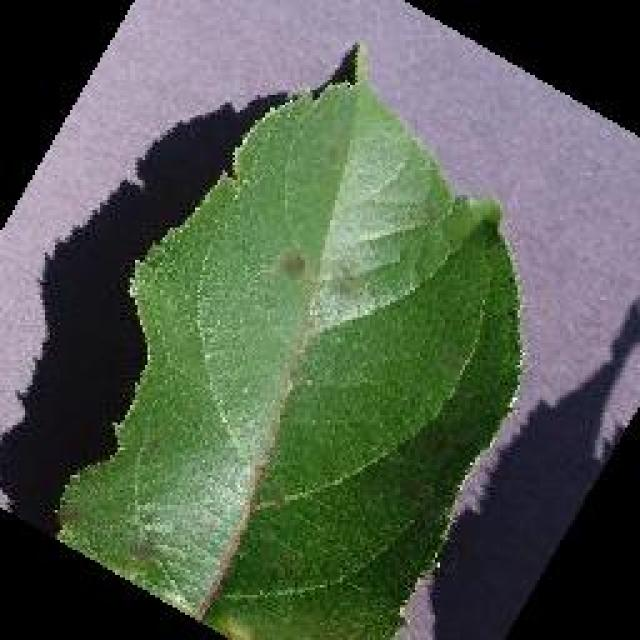apple scab disease: (50, 40, 525, 638)
